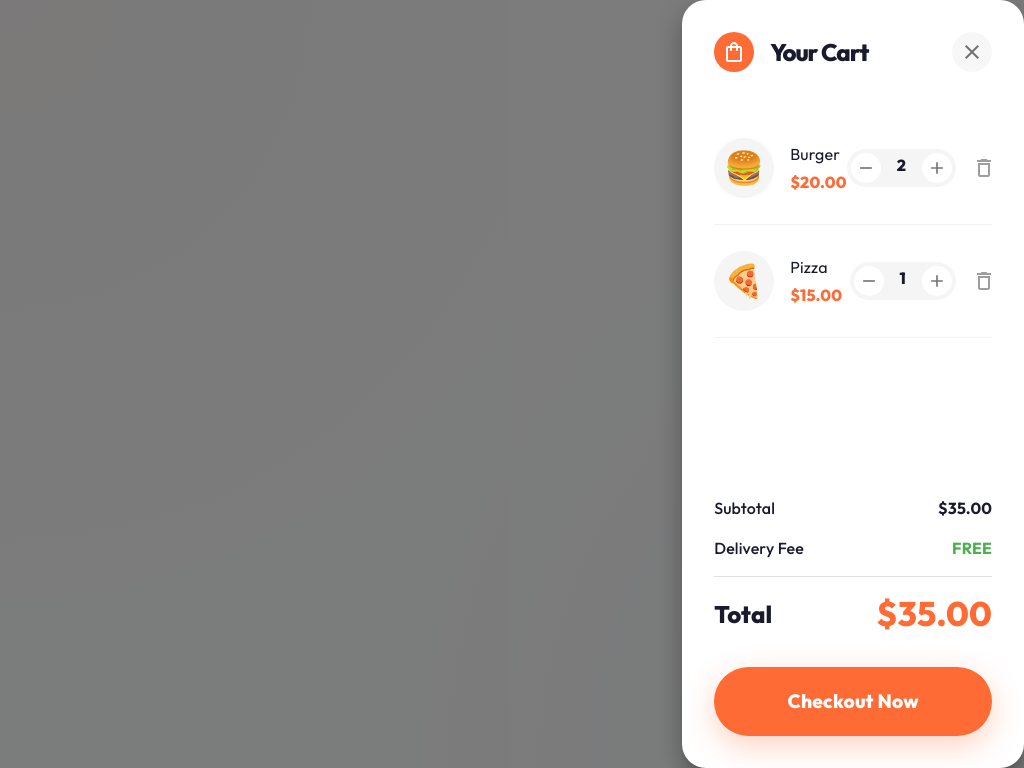
CartDrawer › remove item removes from list
Click the 4th button.
click(984, 168)  # box [964,148,1004,188]
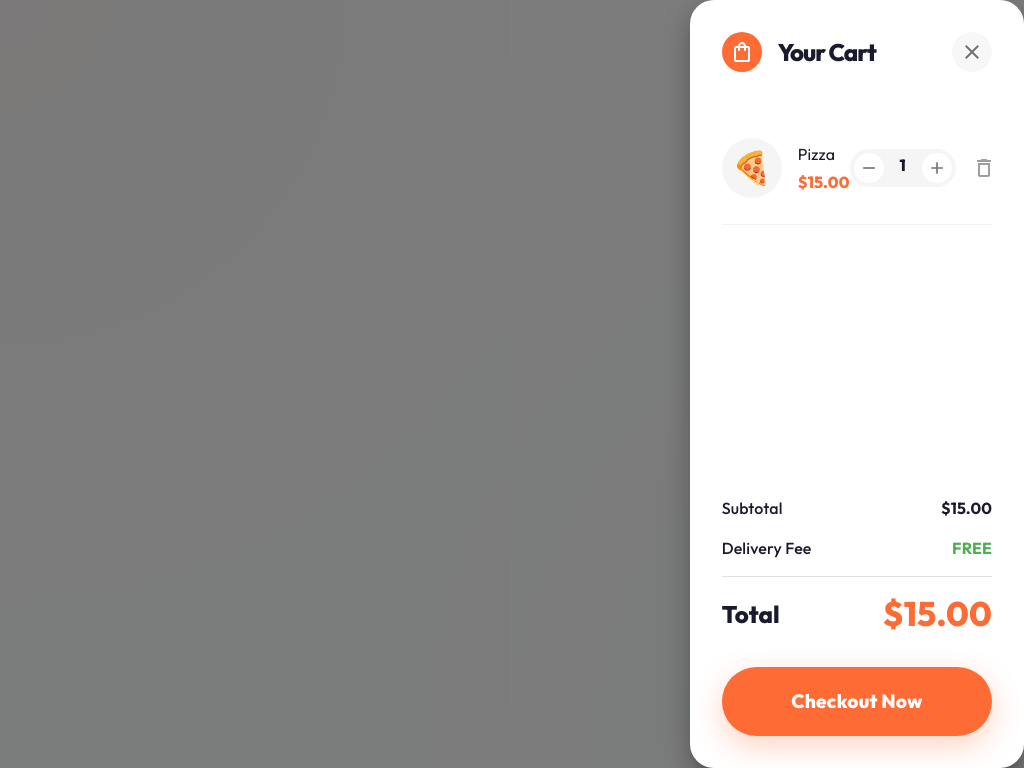
Result: the text "Burger" is gone
